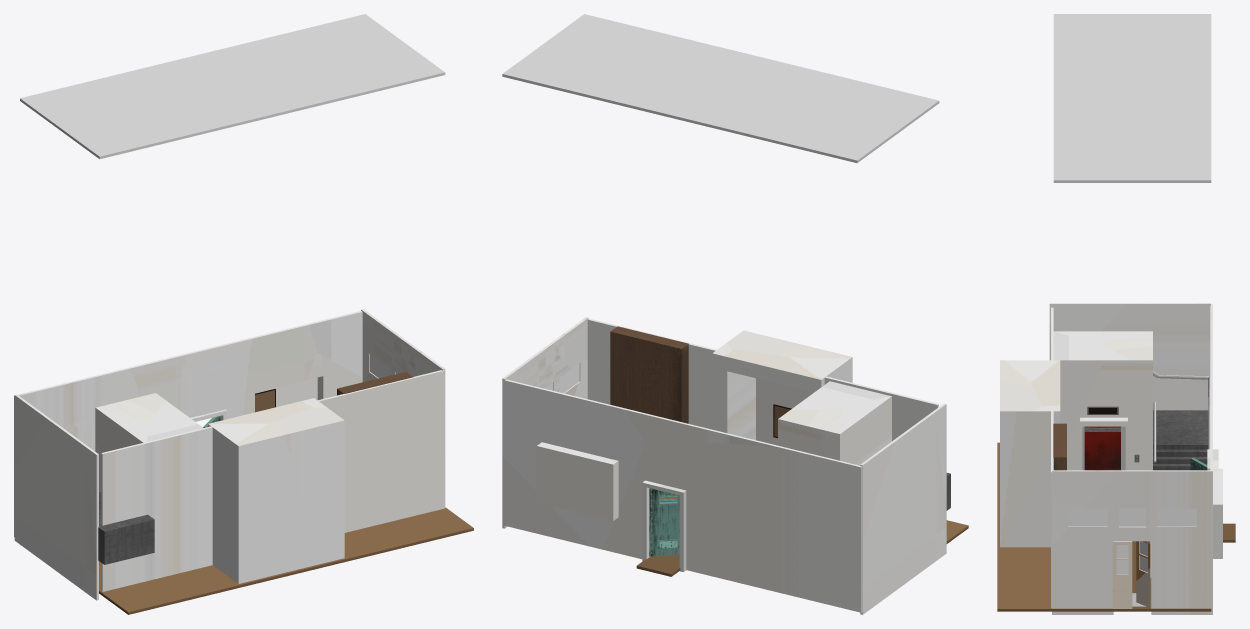
File: Blend_HallFinal_N_v24.fbx
3 renders of one model, left to right at view 1: azimuth 30°, elevation 25°; view 2: azimuth 150°, elevation 25°; view 3: azimuth 270°, elevation 25°, orthographic. The views are drawn at different scales.
Parts seen in each view (by area): view 1: Paredes, Techo, Paredes.001, ParedTrasera, Suelo, ParedAscensor, ParedTrasera.002, Escalera.002; view 2: Paredes.001, Techo, Paredes, ParedTrasera, ParedAscensor, MuebleBuzones, ParedTrasera.002, PuertaContadores, Suelo; view 3: Techo, ParedTrasera.002, ParedAscensor, Paredes, ParedTrasera, Suelo, Escalera.001, Ascensor, Paredes.001, PuertaCalle.002, PuertaCalle.001, Barandilla.002 (+2 smaller).
Boxes of the visible parts, x1,y1,x2,y2 form: Paredes: [101, 370, 444, 591]; Techo: [20, 14, 445, 159]; Paredes.001: [14, 311, 362, 536]; ParedTrasera: [14, 394, 98, 600]; Suelo: [99, 507, 473, 614]; ParedAscensor: [95, 393, 203, 492]; ParedTrasera.002: [361, 309, 445, 507]; Escalera.002: [98, 492, 154, 564]; Paredes.001: [503, 379, 862, 612]; Techo: [502, 14, 939, 163]; Paredes: [587, 318, 938, 445]; ParedTrasera: [860, 403, 946, 614]; ParedAscensor: [778, 381, 891, 465]; MuebleBuzones: [610, 326, 688, 423]; ParedTrasera.002: [502, 317, 588, 528]; PuertaContadores: [649, 488, 679, 556]; Suelo: [636, 498, 968, 576]; Techo: [1053, 14, 1211, 182]; ParedTrasera.002: [1052, 470, 1212, 614]; ParedAscensor: [1053, 331, 1152, 470]; Paredes: [1000, 307, 1060, 608]; ParedTrasera: [1049, 303, 1210, 410]; Suelo: [997, 442, 1235, 611]; Escalera.001: [1153, 410, 1208, 470]; Ascensor: [1084, 426, 1120, 470]; Paredes.001: [1207, 304, 1222, 558]; PuertaCalle.002: [1112, 541, 1132, 608]; PuertaCalle.001: [1136, 541, 1151, 608]; Barandilla.002: [1153, 371, 1210, 462].
Size of the model in its own units: 1015 by 1220 by 606.
